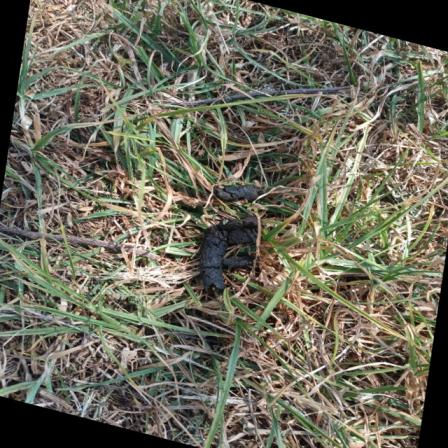dog-poop: (198, 176, 268, 294)
